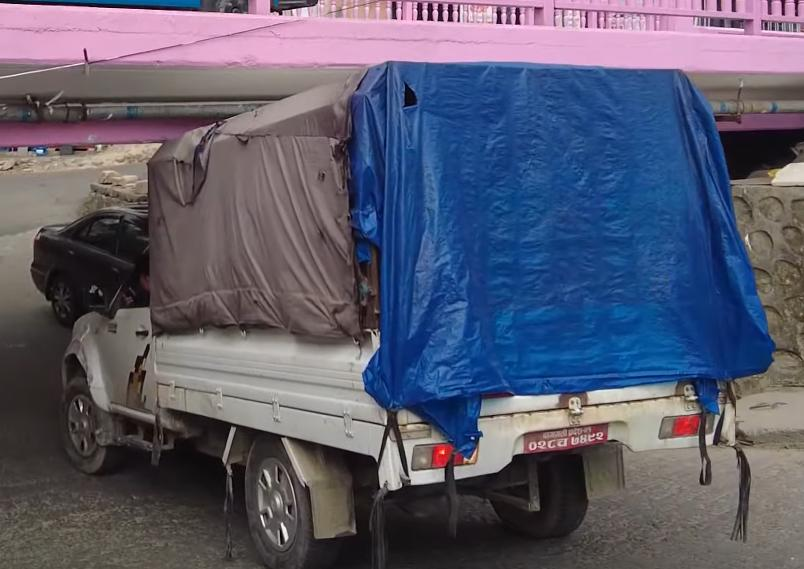car: (28, 189, 187, 325)
transport_vehicle: (46, 52, 748, 569)
